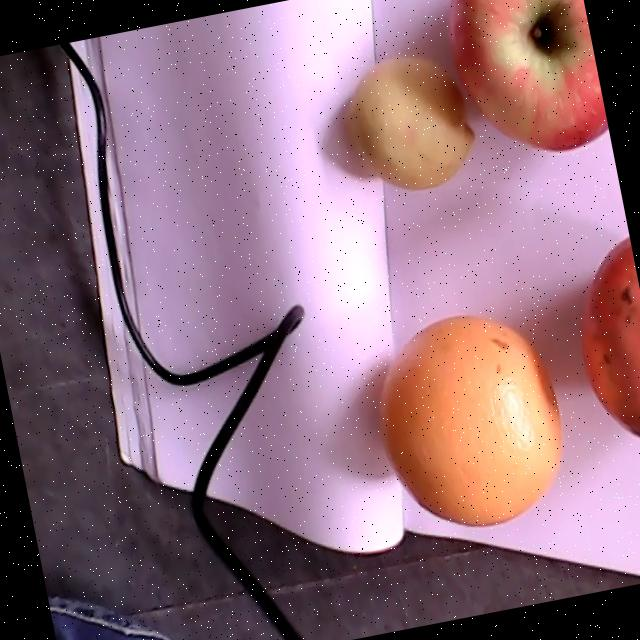apple: (450, 0, 608, 152)
lemon: (342, 56, 475, 190)
orange: (378, 317, 564, 526)
pomegranate: (582, 236, 640, 439)
